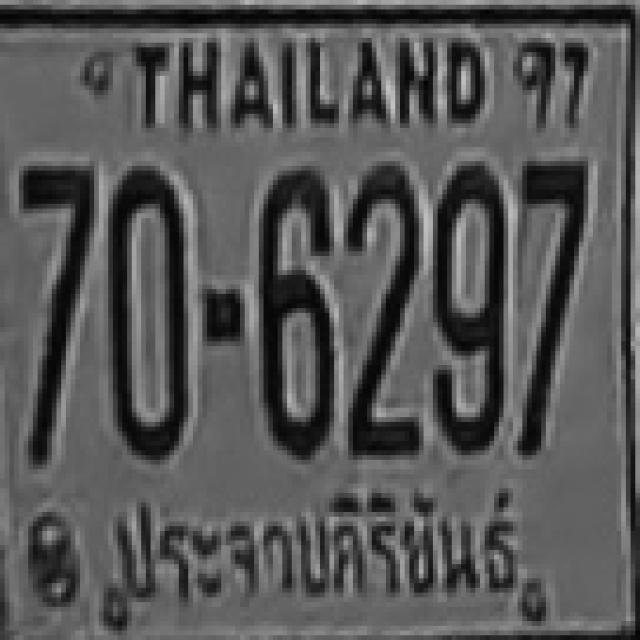0: (428, 161, 504, 346), (259, 261, 329, 455)
7: (19, 161, 94, 327), (520, 156, 586, 313)
PrachuapKhiriKhan: (96, 472, 540, 612)
